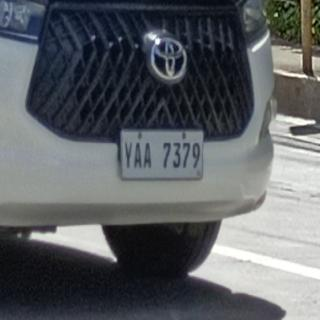license: (122, 131, 204, 180)
